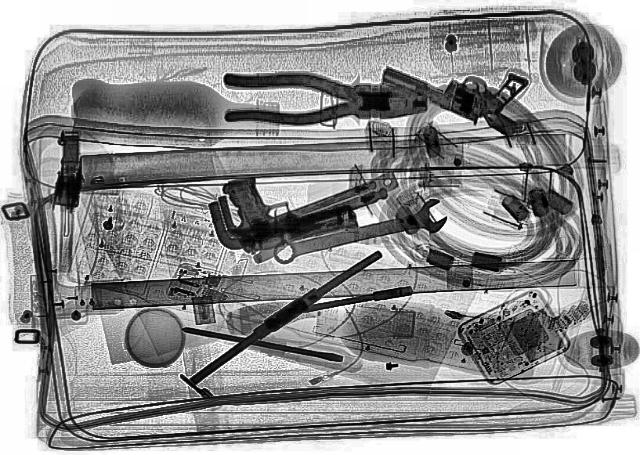Gun: (370, 33, 532, 128), (207, 159, 363, 253)
Pliers: (220, 68, 428, 128)
Wrench: (262, 196, 456, 270)
